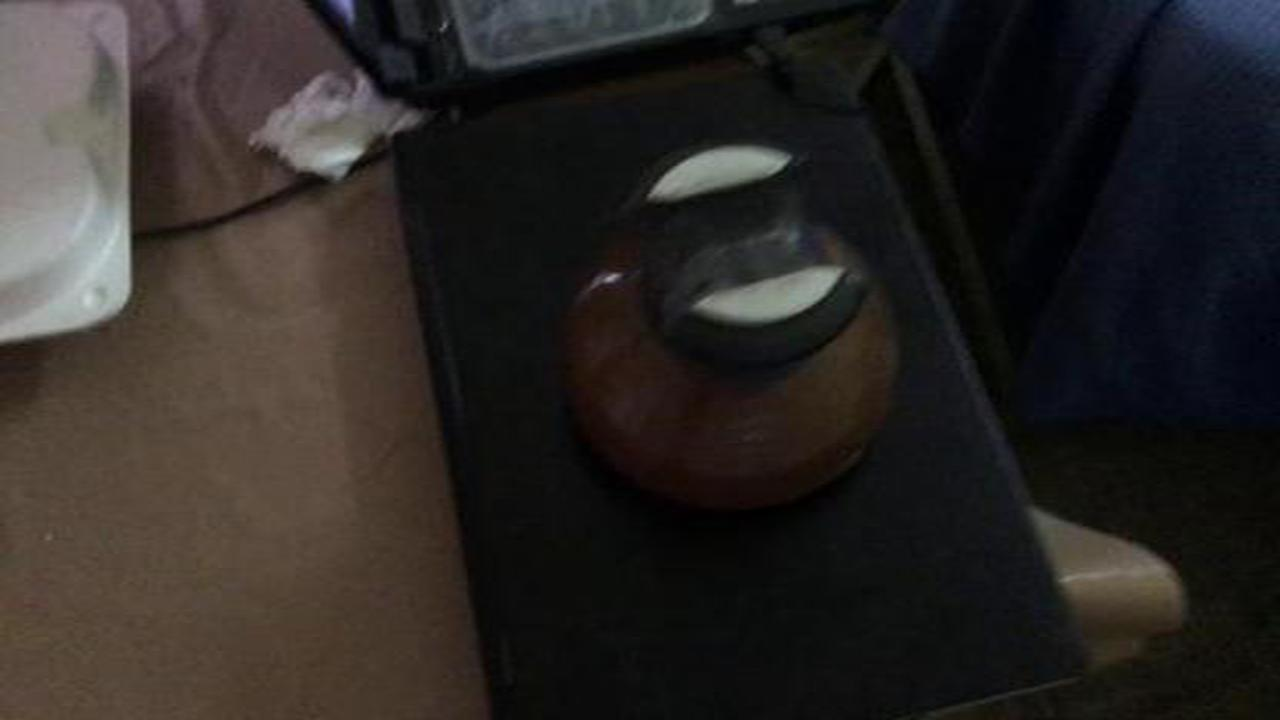insulator_pin: (548, 122, 908, 530)
